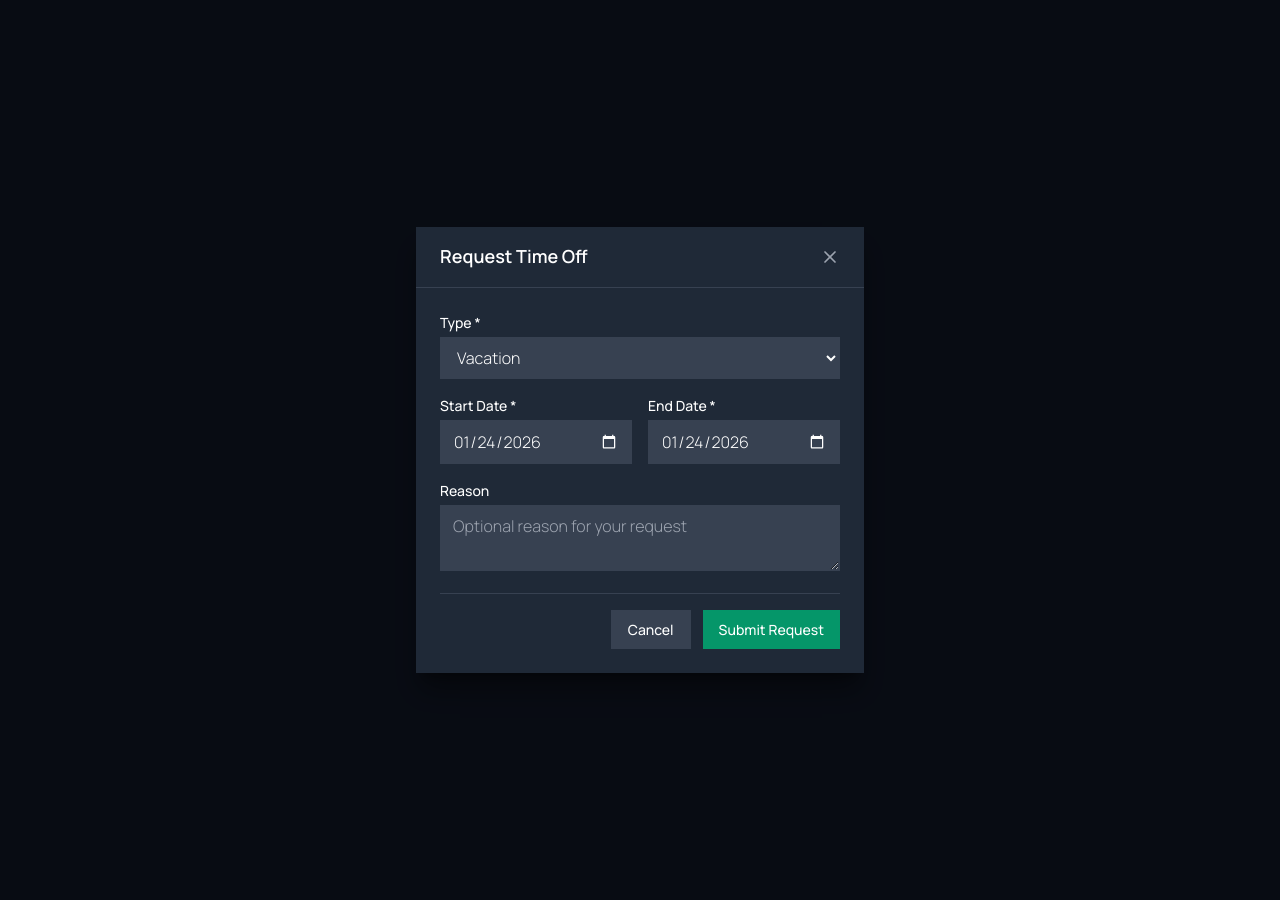
Test case: RequestTimeOffModal › form validation › shows error when end date is before start date
Type "2024-01-20" into the date field labelled "Start Date *" at (536, 442), box [440, 420, 632, 464]
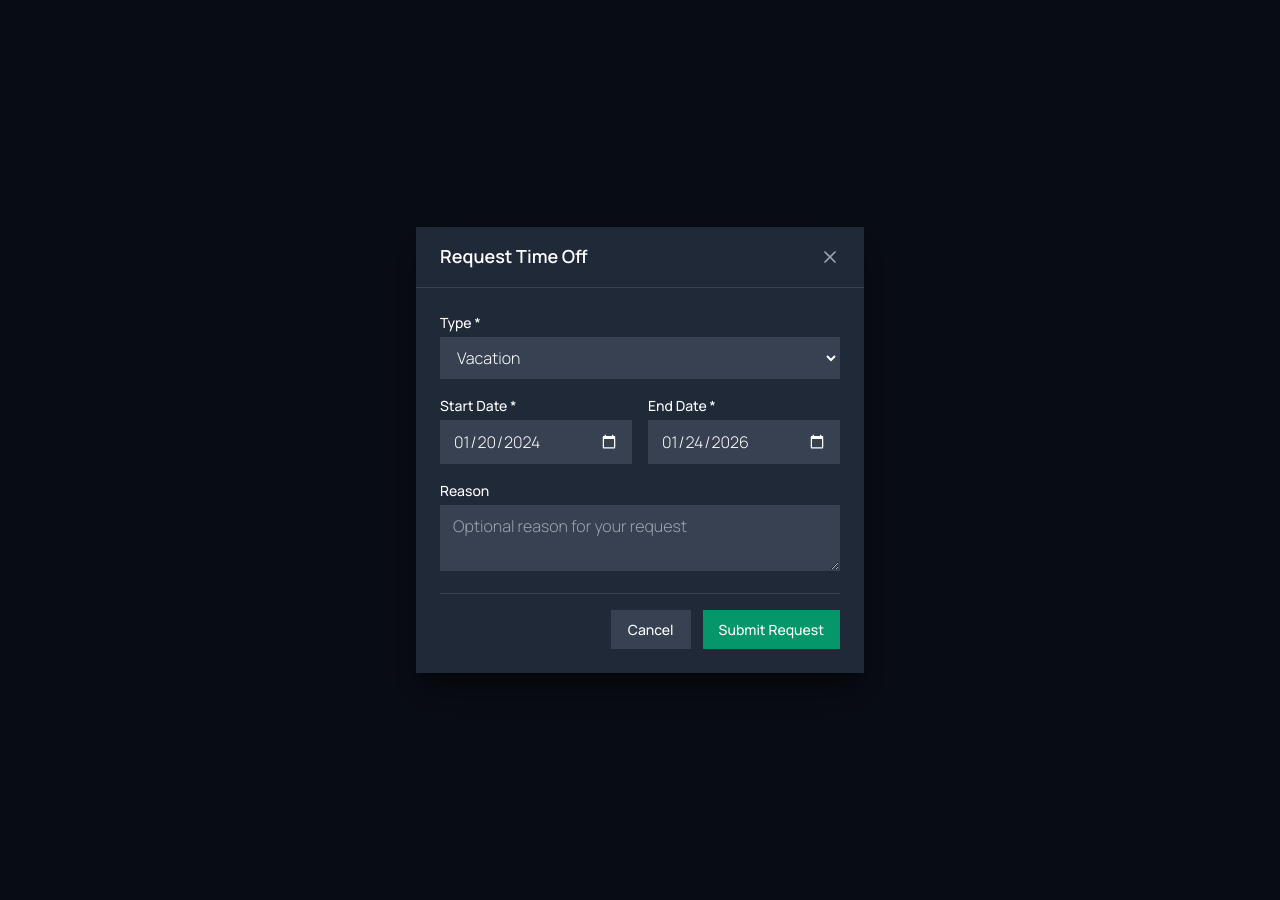
Type "2024-01-15" into the date field labelled "End Date *" at (744, 442), box [648, 420, 840, 464]
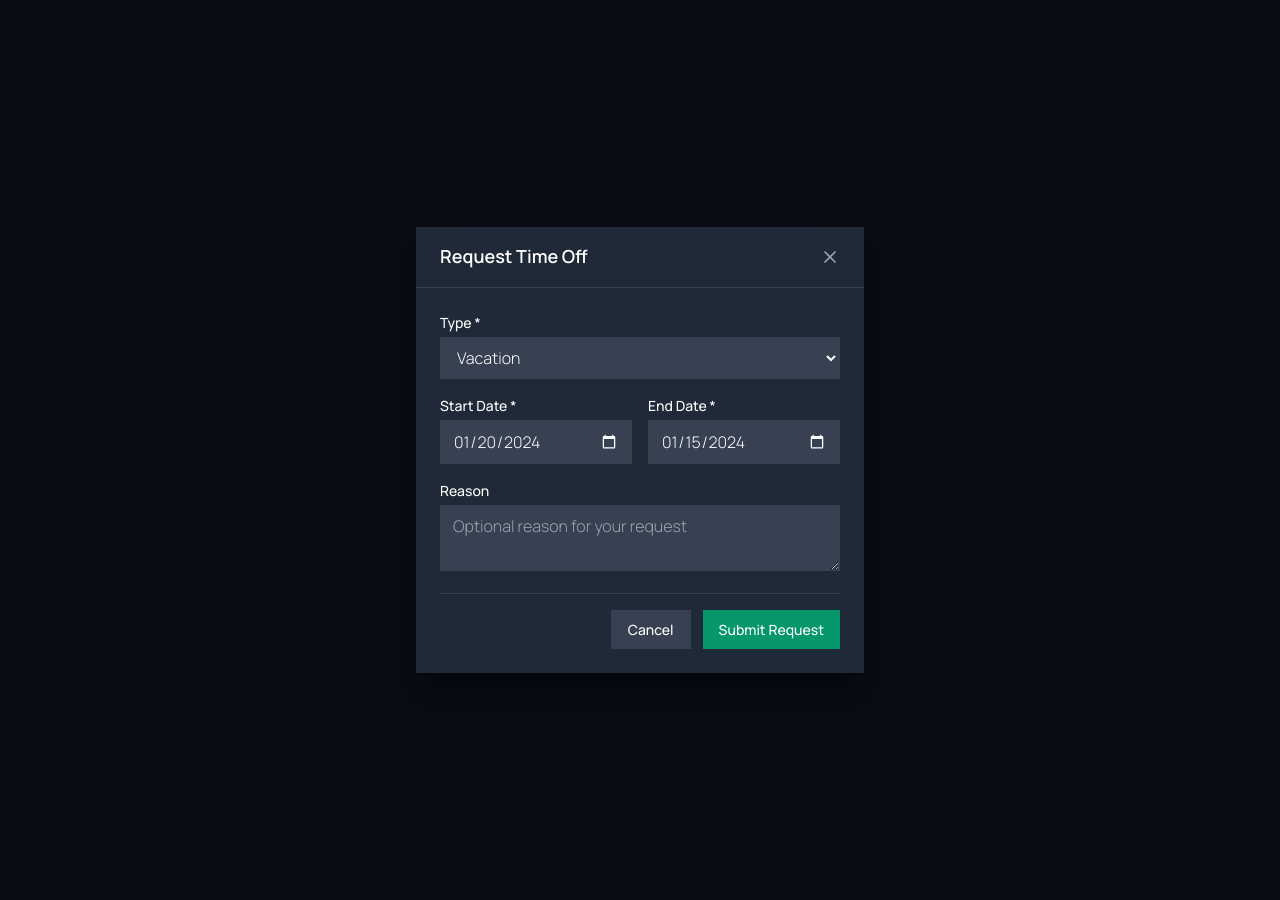
Note: Submit the form directly
Submit the form, box [440, 312, 840, 649]
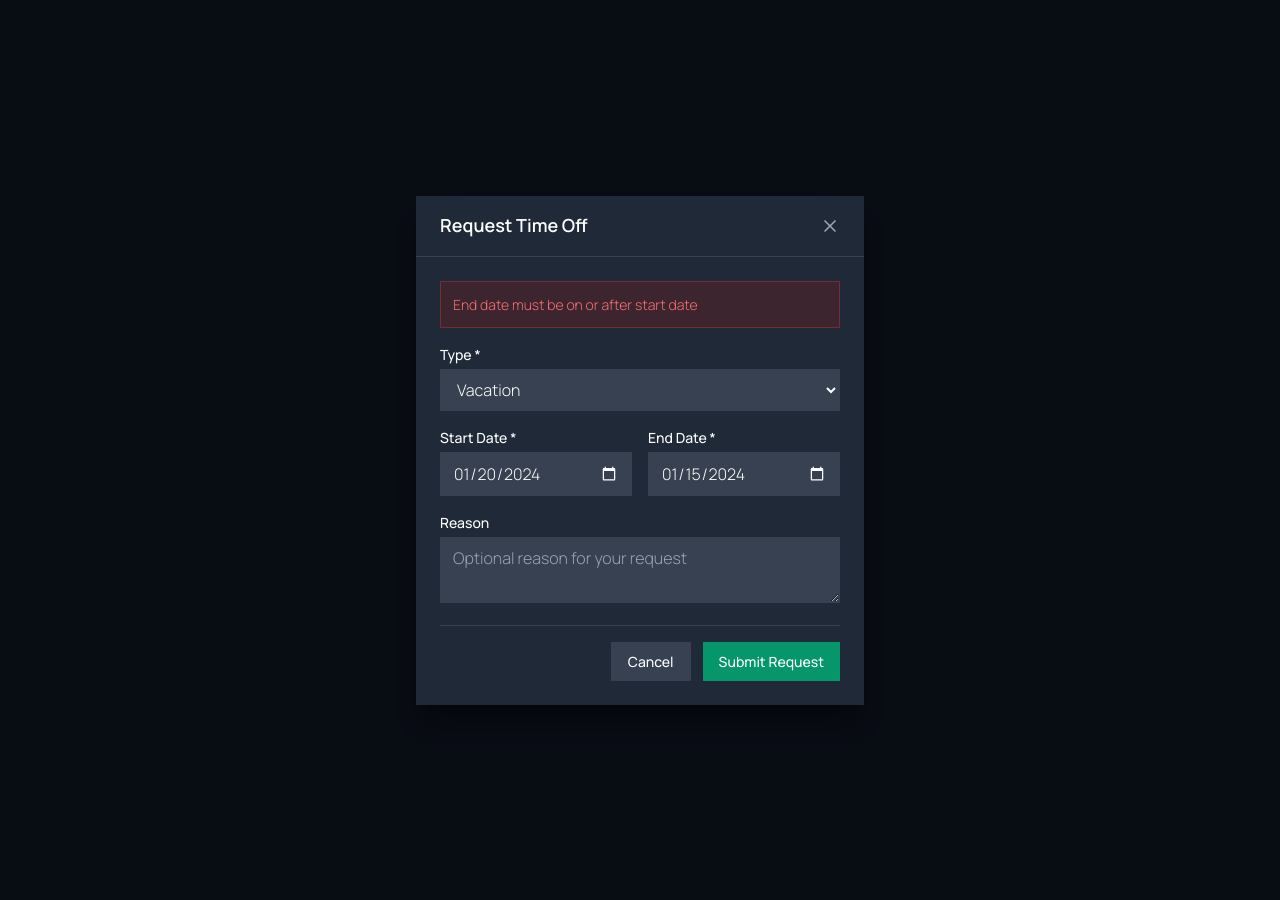
expect the text "End date must be on or after start date" is shown: met, box [440, 280, 840, 328]
